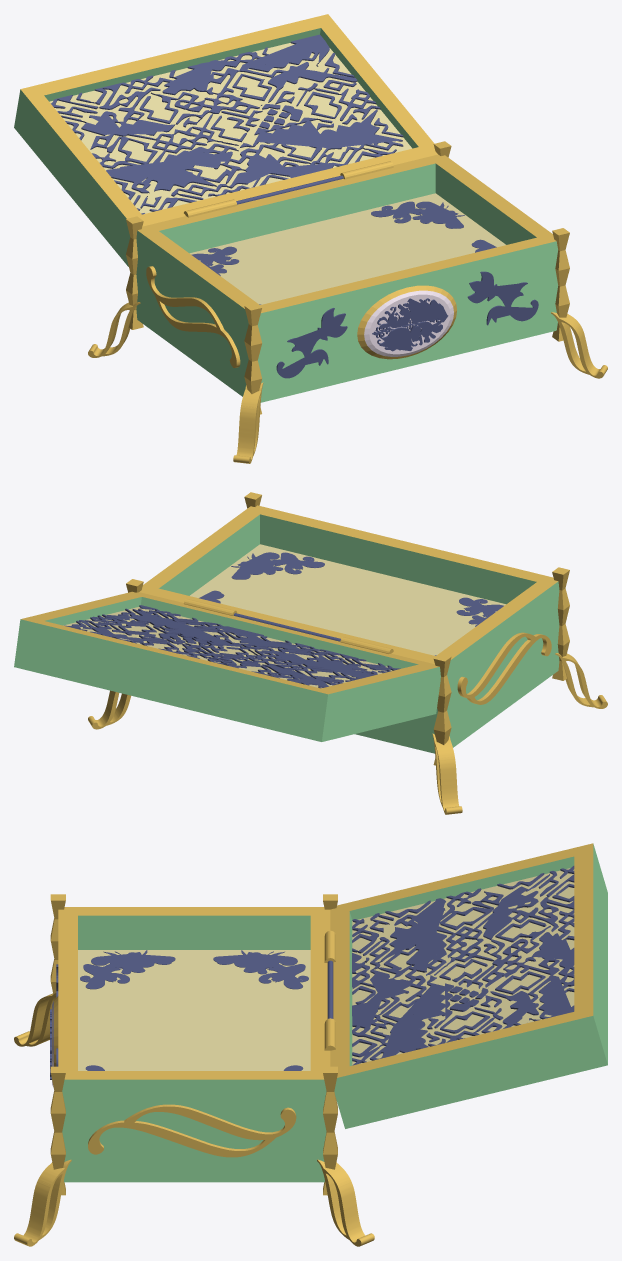
Rendered from musicBox1.fbx.
3 renders of one model, top to bottom at view 1: azimuth 30°, elevation 25°; view 2: azimuth 150°, elevation 25°; view 3: azimuth 270°, elevation 25°, orthographic. The views are drawn at different scales.
Visible parts, largest first — view 1: Cube; view 2: Cube; view 3: Cube.
Part boxes in pixels (x1,y1,x2,y2): Cube: (14,14,607,463); Cube: (14,492,607,814); Cube: (14,843,607,1246).
Bounding box in the file's own units: 1315 × 624 × 1572.
